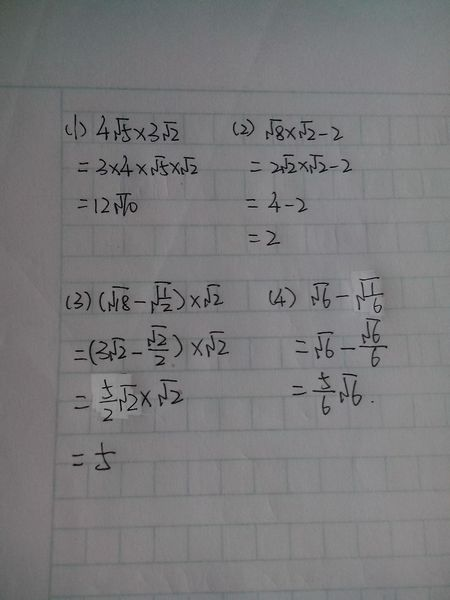division: (355, 338, 390, 355), (310, 384, 341, 398), (97, 398, 121, 408)
sqrt: (148, 273, 180, 320), (355, 270, 386, 318), (156, 376, 187, 412), (205, 325, 235, 361), (337, 369, 367, 404), (312, 326, 337, 367), (305, 278, 333, 314), (201, 278, 228, 312), (114, 379, 138, 417), (109, 110, 134, 146), (259, 114, 284, 148), (108, 281, 129, 321), (177, 154, 202, 184), (158, 115, 179, 148), (294, 118, 316, 149), (306, 150, 326, 183), (109, 330, 128, 364), (360, 312, 382, 341), (151, 152, 173, 181), (148, 317, 166, 350), (279, 149, 295, 177)
